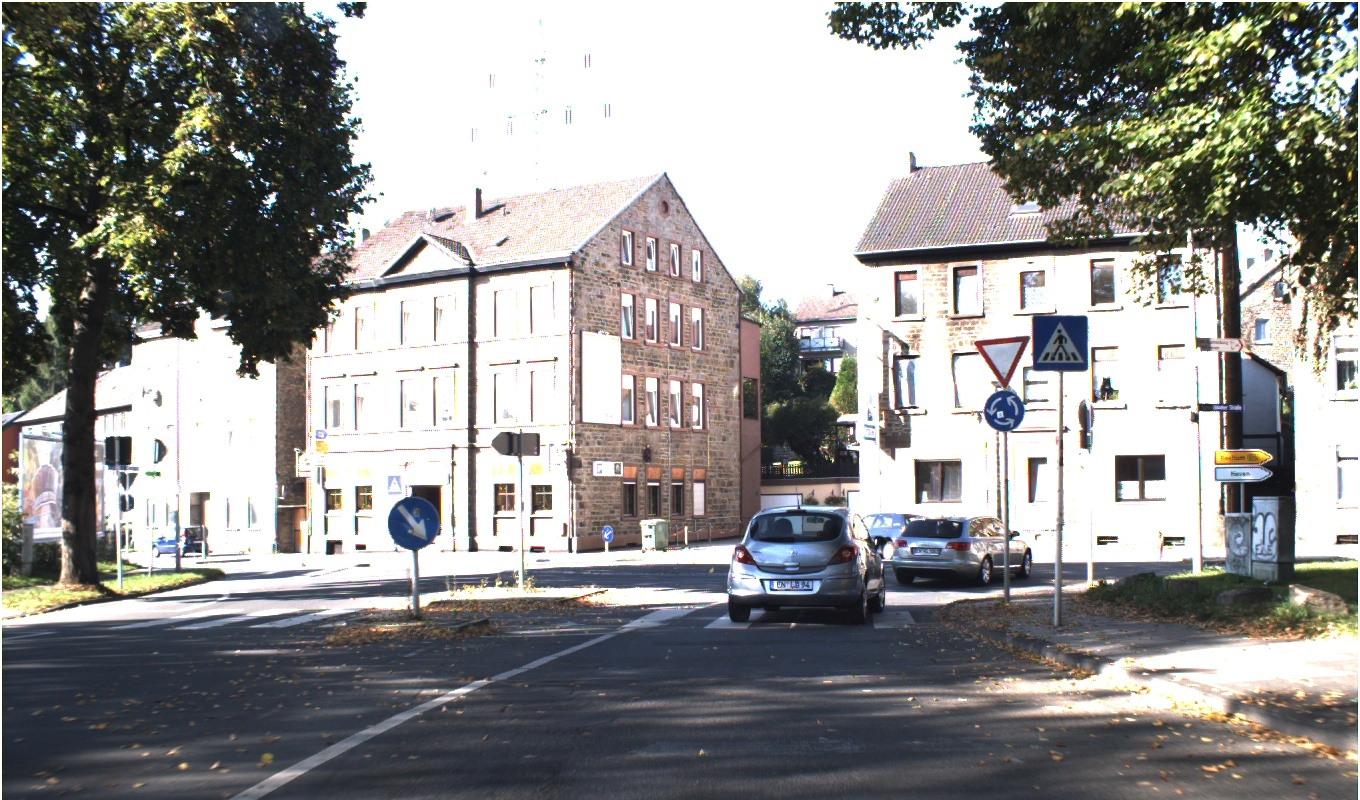panneau: (386, 494, 442, 552), (973, 335, 1031, 390), (983, 388, 1024, 432)
